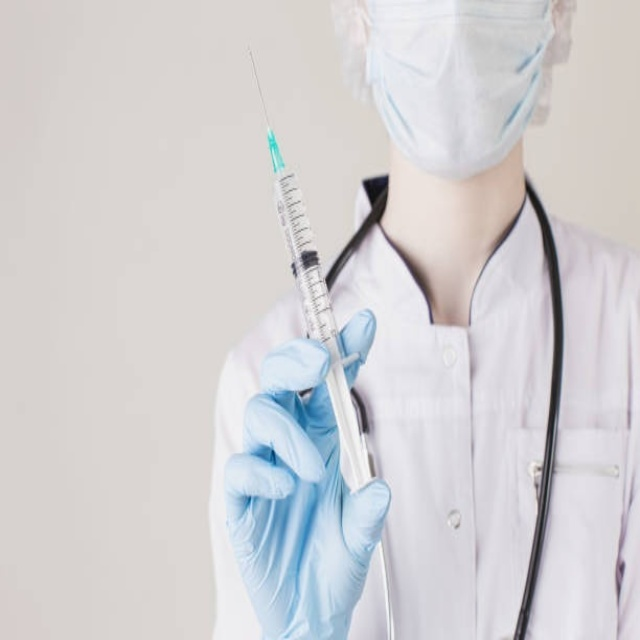Guantes: (223, 309, 391, 640)
Mascara: (350, 0, 562, 178)
